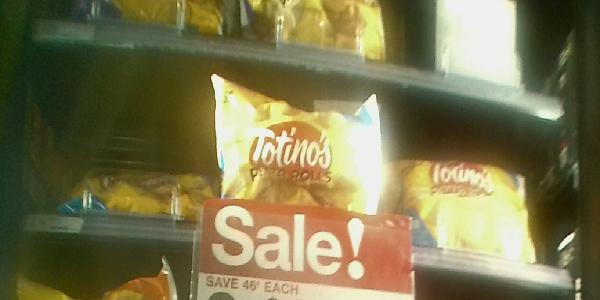icecream: (206, 62, 390, 254), (383, 147, 550, 267)
icecream1: (54, 161, 207, 214)
